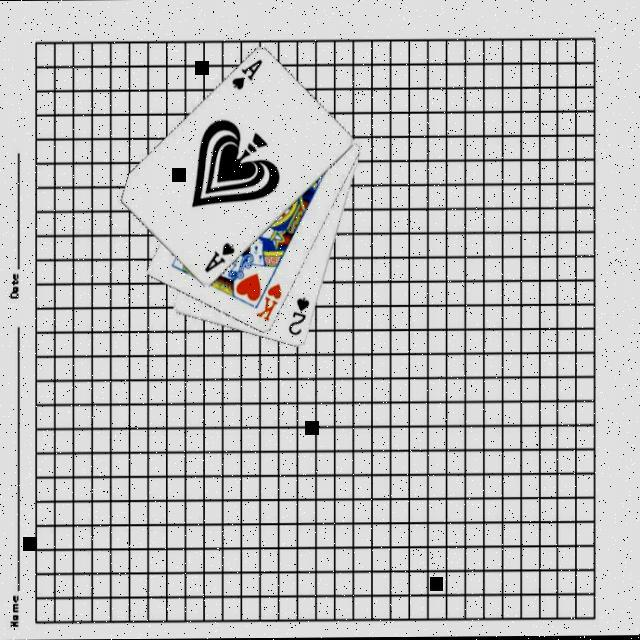2S: (285, 295, 312, 339)
AS: (228, 58, 265, 94), (201, 241, 237, 277)
KH: (252, 282, 284, 326)
